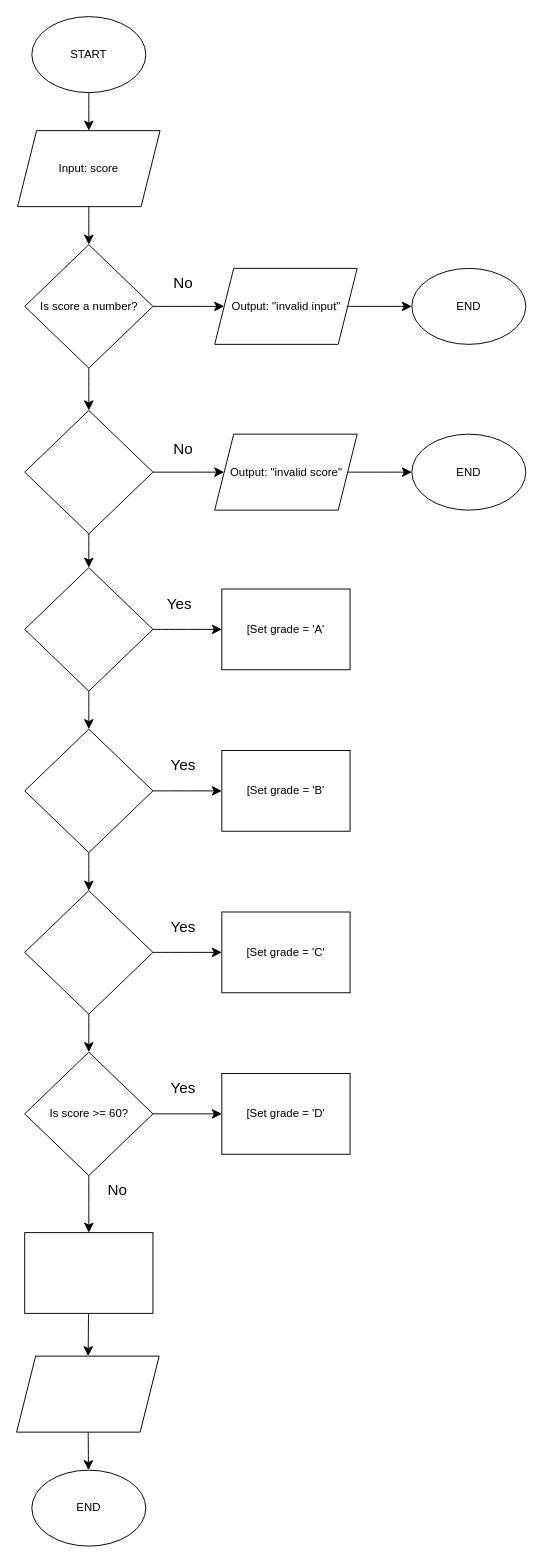
This 542x1563 diagram has some shape labels left out. The centre of each missing label's shape, as x and y in pixels:
"Is score >= 70?" belongs at point 88,952.
"Is score >= 80?" belongs at point 88,790.
"Is score >= 90?" belongs at point 88,629.
"Is score between 0 and 100?" belongs at point 88,471.
"Output: grade" belongs at point 87,1393.
"Set grade = 'F'" belongs at point 88,1272.
